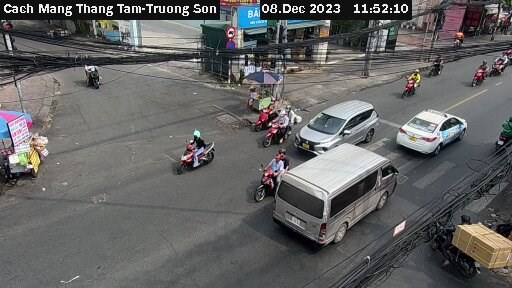car: (270, 142, 396, 242), (300, 92, 378, 151), (392, 100, 468, 155)
motorbike: (158, 123, 228, 183), (430, 211, 500, 271), (70, 55, 120, 95), (247, 151, 282, 197), (250, 93, 283, 127), (463, 58, 495, 89), (392, 62, 417, 97), (269, 106, 292, 144), (427, 44, 451, 79), (492, 113, 512, 149), (494, 45, 510, 74)
